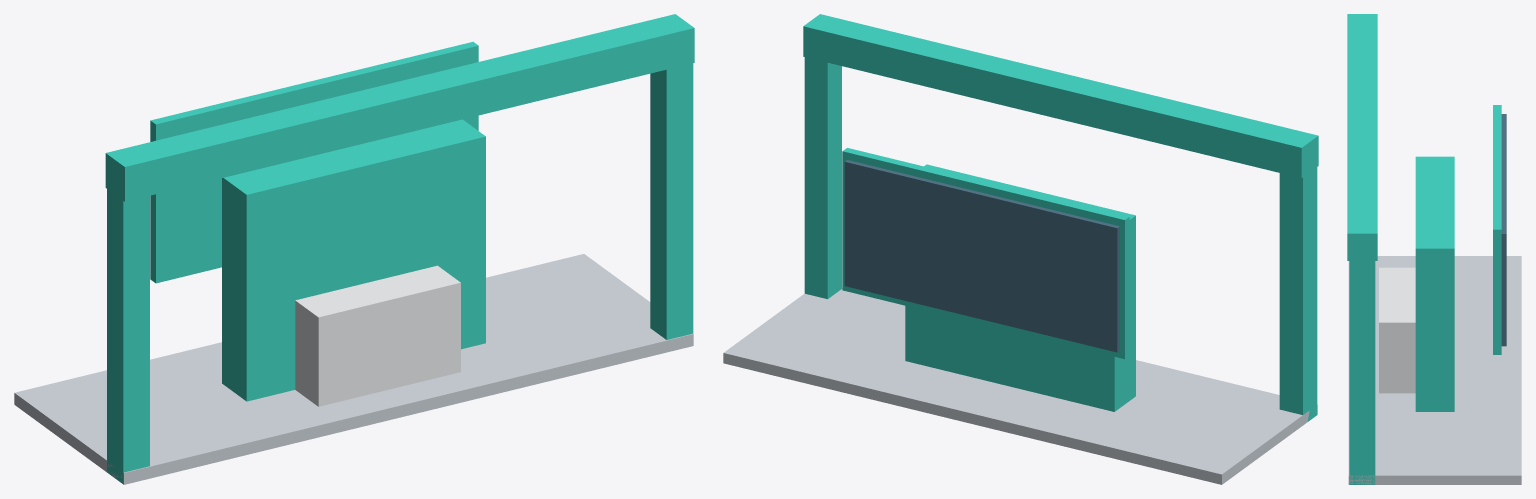
The picture shows the model from 3 angles, left to right: view 1: azimuth 30°, elevation 25°; view 2: azimuth 150°, elevation 25°; view 3: azimuth 270°, elevation 25°; orthographic projection. The views are drawn at different scales.
Parts seen in each view (by area): view 1: Exhibition Booth Concept; view 2: Exhibition Booth Concept; view 3: Exhibition Booth Concept.
Boxes of the visible parts, x1,y1,x2,y2 form: Exhibition Booth Concept: (14, 14, 694, 484); Exhibition Booth Concept: (723, 14, 1318, 484); Exhibition Booth Concept: (1347, 14, 1521, 484).
Bounding box in the file's own units: 6 × 3.2 × 2.01.
